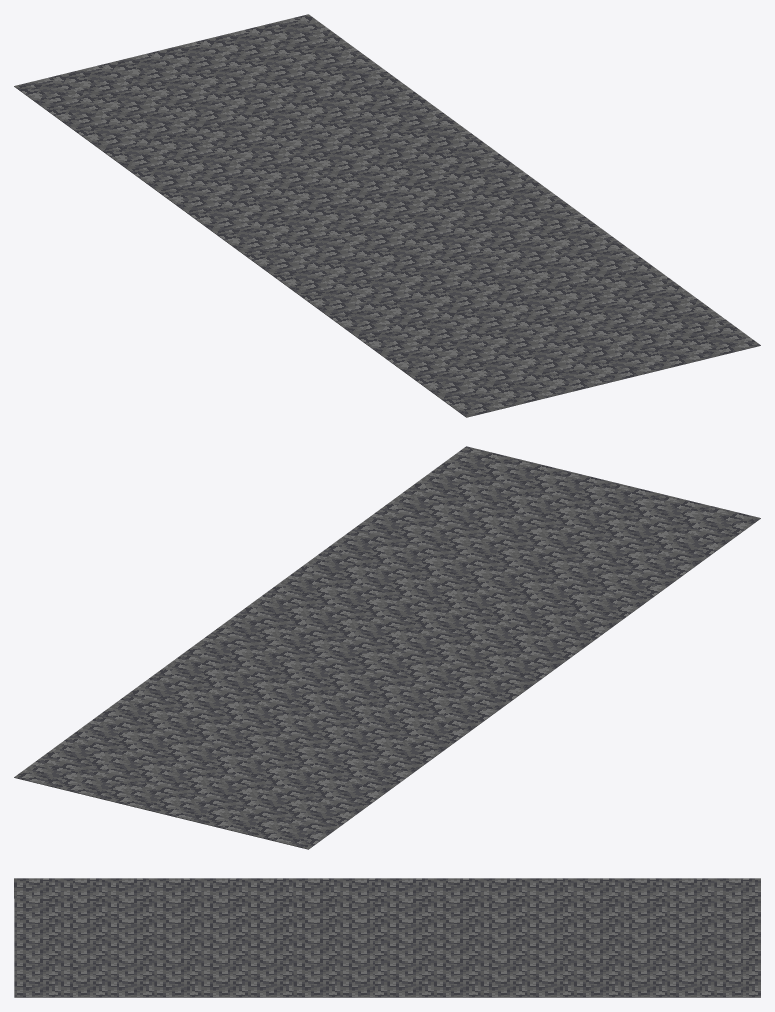
File: Floor.fbx
3 renders of one model, top to bottom at view 1: azimuth 30°, elevation 25°; view 2: azimuth 150°, elevation 25°; view 3: azimuth 270°, elevation 25°, orthographic. The views are drawn at different scales.
Parts seen in each view (by area): view 1: cube.069, cube.022, cube.025, cube.021, cube.023, cube.024, cube.084, cube.014, cube.059, cube.086, cube.012, cube.057 (+84 smaller); view 2: cube.078, cube.082, cube.083, cube.076, cube.079, cube.081, cube.012, cube.015, cube.059, cube.036, cube.085, cube.069 (+84 smaller); view 3: cube.017, cube.030, cube.041, cube.067, cube.077, cube.088, cube.013, cube.015, cube.016, cube.043, cube.036, cube.080 (+84 smaller).
Boxes of the visible parts, bbox=[...] form: cube.069: bbox=[438, 384, 515, 417]; cube.022: bbox=[487, 372, 564, 405]; cube.025: bbox=[585, 348, 662, 381]; cube.021: bbox=[635, 336, 711, 369]; cube.023: bbox=[536, 360, 613, 393]; cube.024: bbox=[684, 324, 760, 357]; cube.084: bbox=[42, 95, 119, 127]; cube.014: bbox=[381, 343, 458, 375]; cube.059: bbox=[183, 198, 260, 231]; cube.086: bbox=[99, 136, 175, 168]; cube.012: bbox=[324, 301, 401, 334]; cube.057: bbox=[240, 240, 317, 272]; cube.078: bbox=[259, 816, 336, 849]; cube.082: bbox=[210, 804, 287, 837]; cube.083: bbox=[63, 768, 139, 801]; cube.076: bbox=[112, 780, 189, 813]; cube.079: bbox=[14, 756, 90, 789]; cube.081: bbox=[161, 792, 238, 825]; cube.012: bbox=[570, 589, 647, 621]; cube.015: bbox=[655, 527, 732, 559]; cube.059: bbox=[429, 692, 506, 724]; cube.036: bbox=[514, 630, 590, 662]; cube.085: bbox=[316, 775, 393, 807]; cube.069: bbox=[684, 506, 760, 538]; cube.017: bbox=[154, 977, 201, 997]; cube.030: bbox=[107, 977, 154, 997]; cube.041: bbox=[340, 977, 387, 997]; cube.067: bbox=[480, 977, 527, 997]; cube.077: bbox=[667, 977, 714, 997]; cube.088: bbox=[620, 977, 667, 997]; cube.013: bbox=[154, 878, 201, 898]; cube.015: bbox=[60, 878, 107, 898]; cube.016: bbox=[154, 937, 201, 957]; cube.043: bbox=[340, 937, 387, 957]; cube.036: bbox=[293, 878, 340, 898]; cube.080: bbox=[667, 937, 714, 957].
Size of the model in its own units: 600 by 1 by 1596.
Materials: 192 (192 with a texture image).
